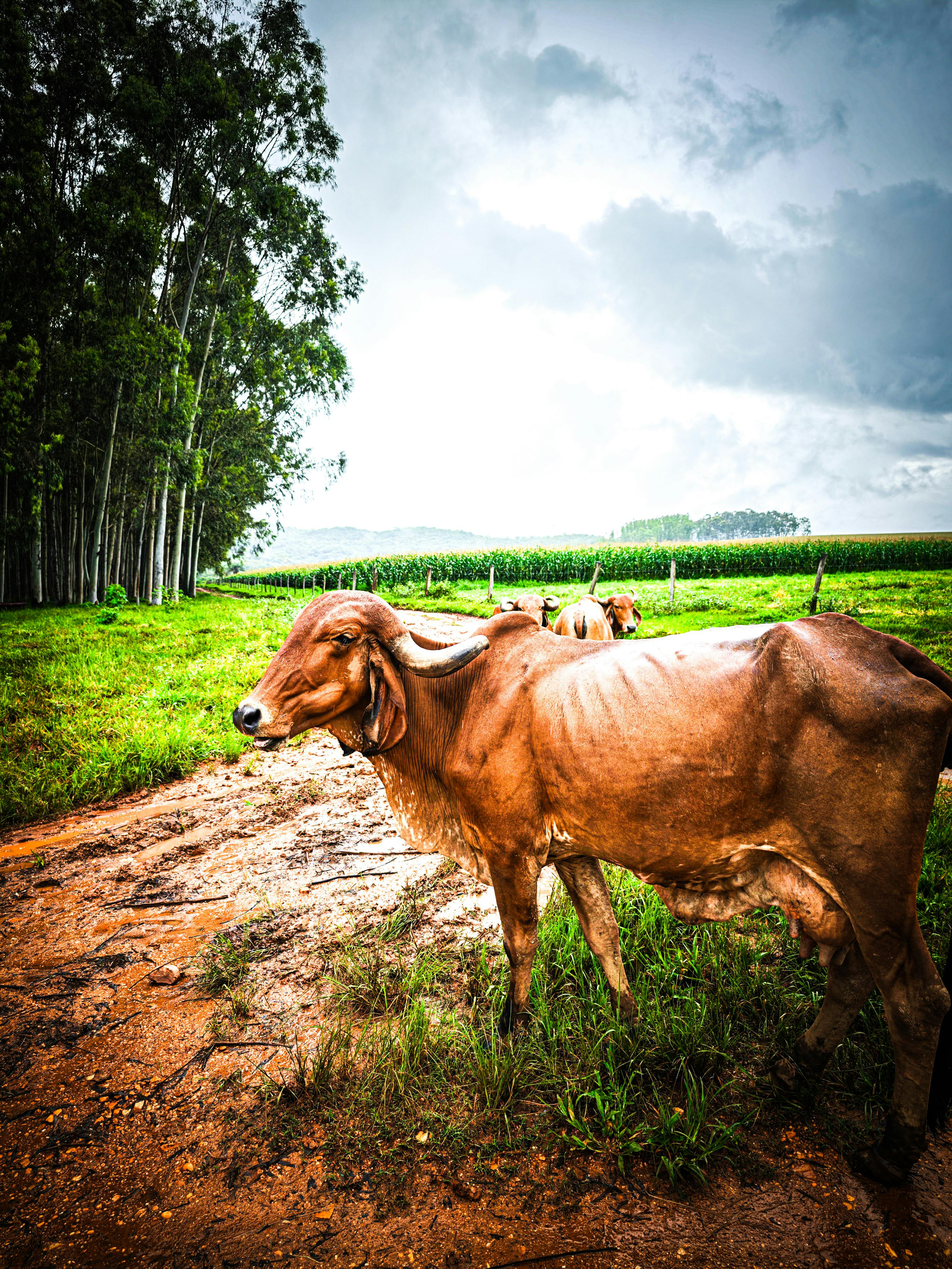bovino: (237, 587, 952, 1124)
